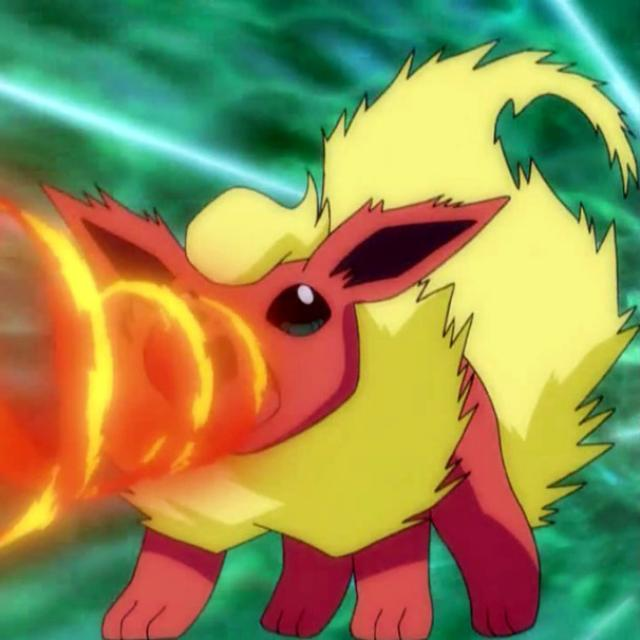Flareon: (88, 197, 550, 632)
